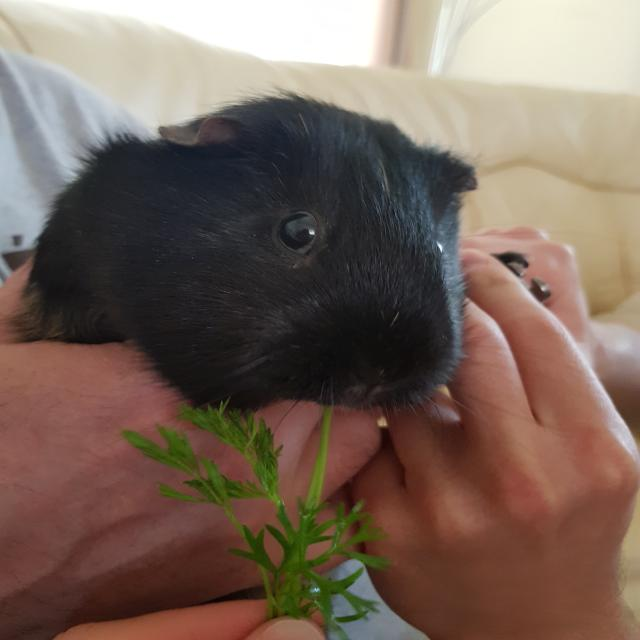guinea pig: (12, 91, 479, 420)
